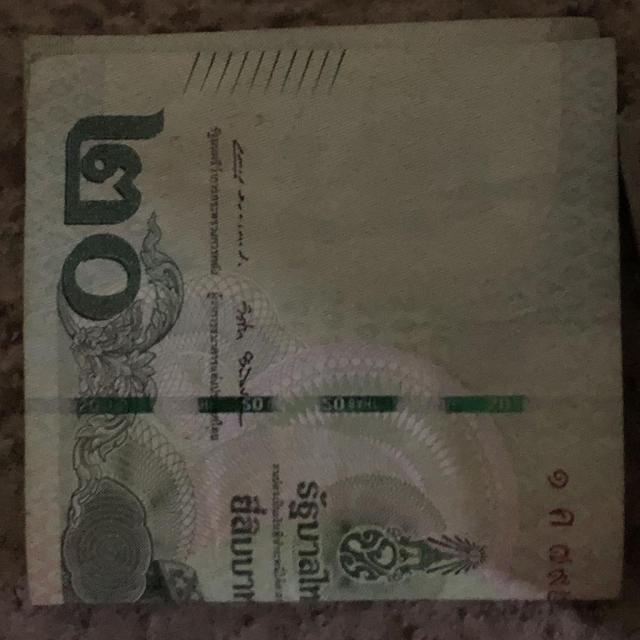THAI20: (24, 18, 624, 604)
